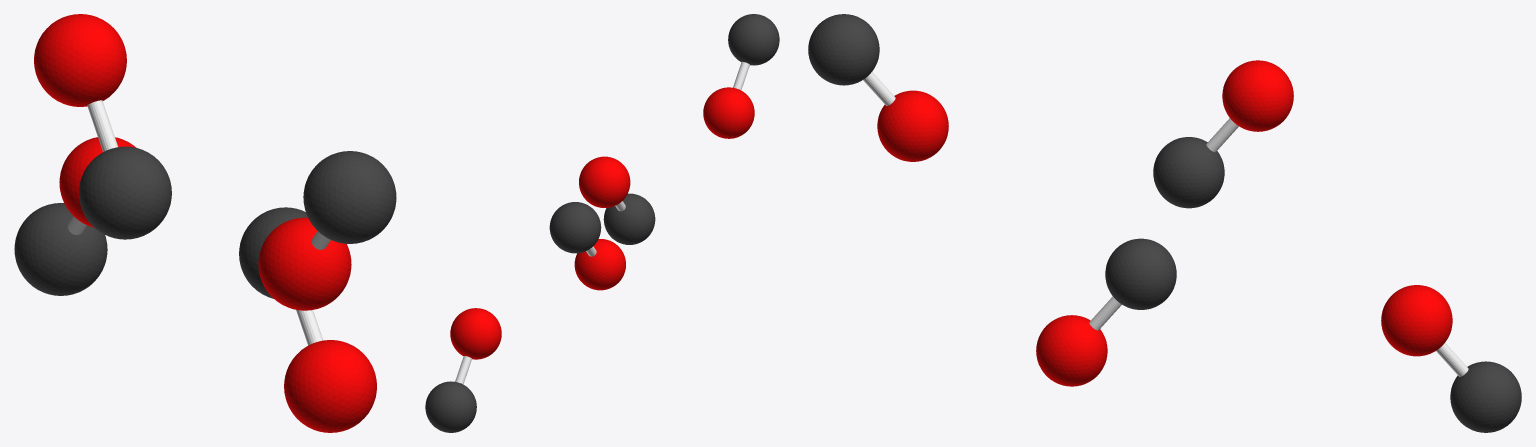
The model's file is structure_mpstyle.glb.
3 renders of one model, left to right at view 1: azimuth 30°, elevation 25°; view 2: azimuth 150°, elevation 25°; view 3: azimuth 270°, elevation 25°, orthographic. The views are drawn at different scales.
Parts seen in each view (by area): view 1: world; view 2: world; view 3: world.
Boxes of the visible parts, left/top/right/bottom form: world: left=14, top=14, right=396, bottom=432; world: left=425, top=14, right=779, bottom=432; world: left=808, top=14, right=1521, bottom=432.
Bounding box in the file's own units: 2.08 × 4.49 × 7.98.
